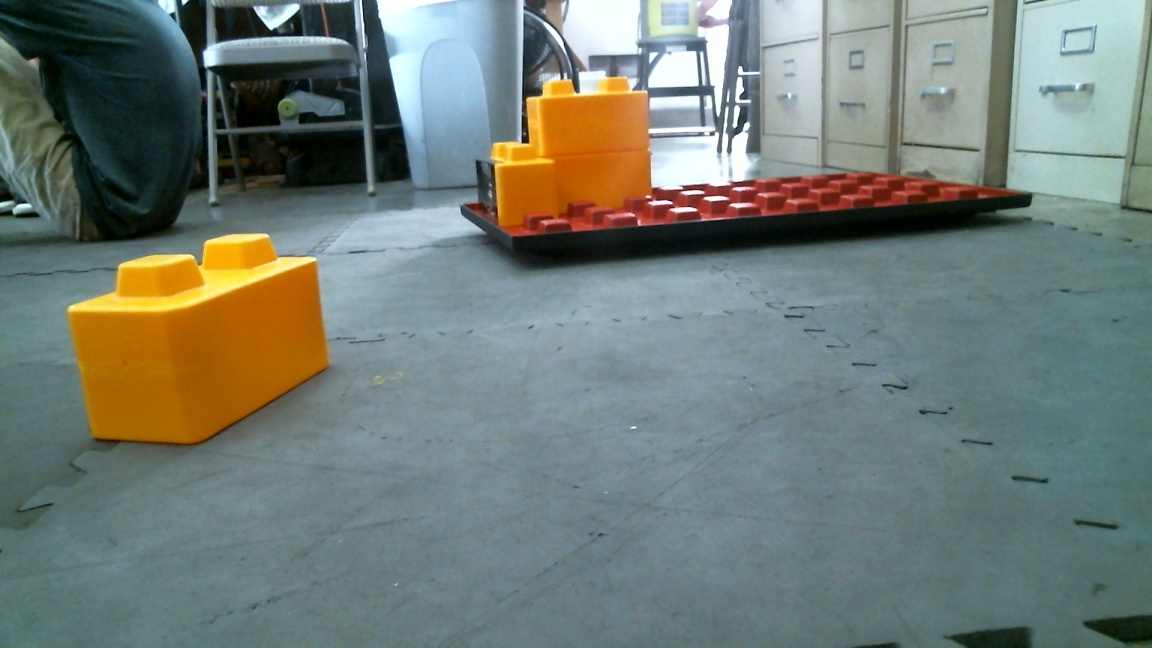skystone: (466, 162, 1001, 273), (475, 144, 542, 220)
stone: (64, 231, 362, 441), (525, 80, 653, 156), (539, 148, 658, 199)
